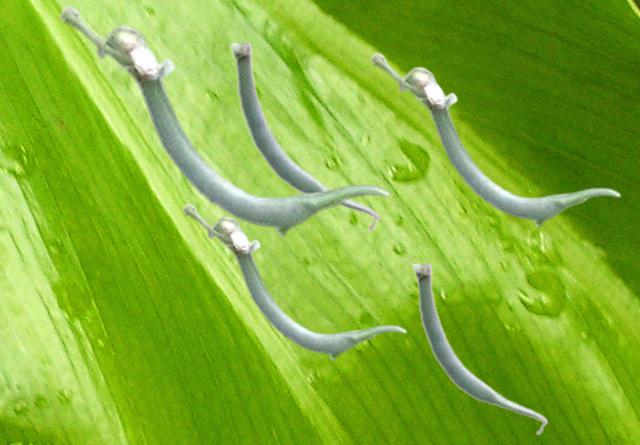french_bean: (59, 4, 390, 237), (370, 51, 620, 227), (182, 202, 406, 360), (230, 43, 379, 232), (412, 264, 547, 435)
